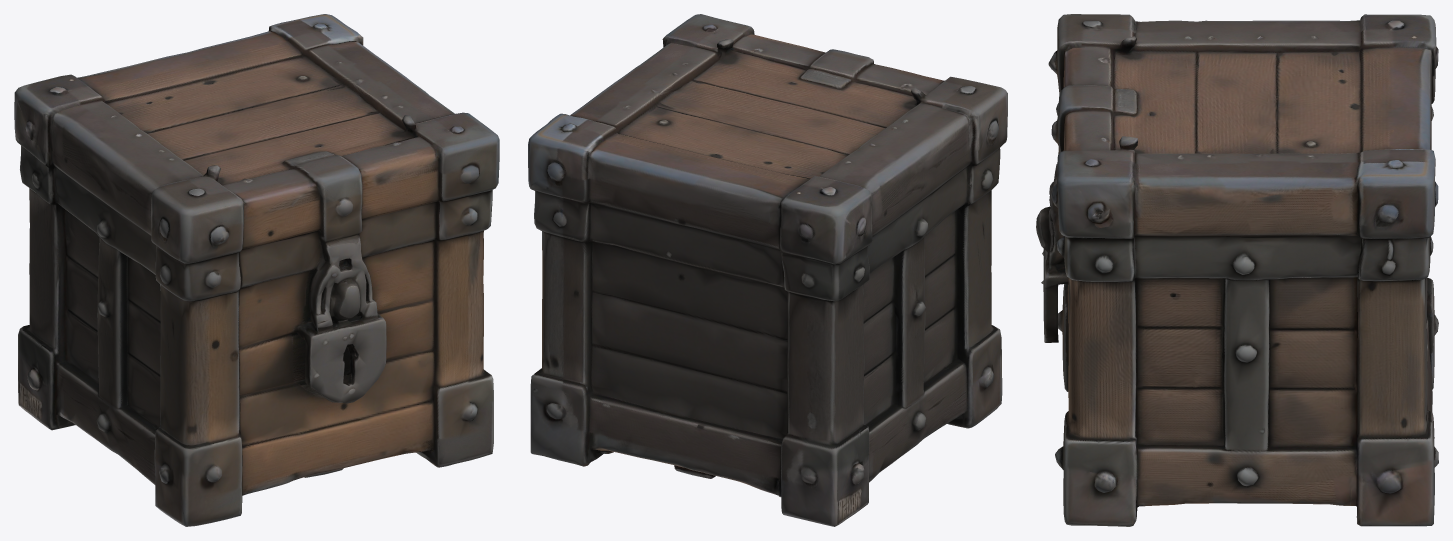
The model's file is supply_crate.glb.
3 renders of one model, left to right at view 1: azimuth 30°, elevation 25°; view 2: azimuth 150°, elevation 25°; view 3: azimuth 270°, elevation 25°, orthographic. The views are drawn at different scales.
Bounding box in the file's own units: 2 × 1.94 × 1.97.
1 material, 1 textured.
